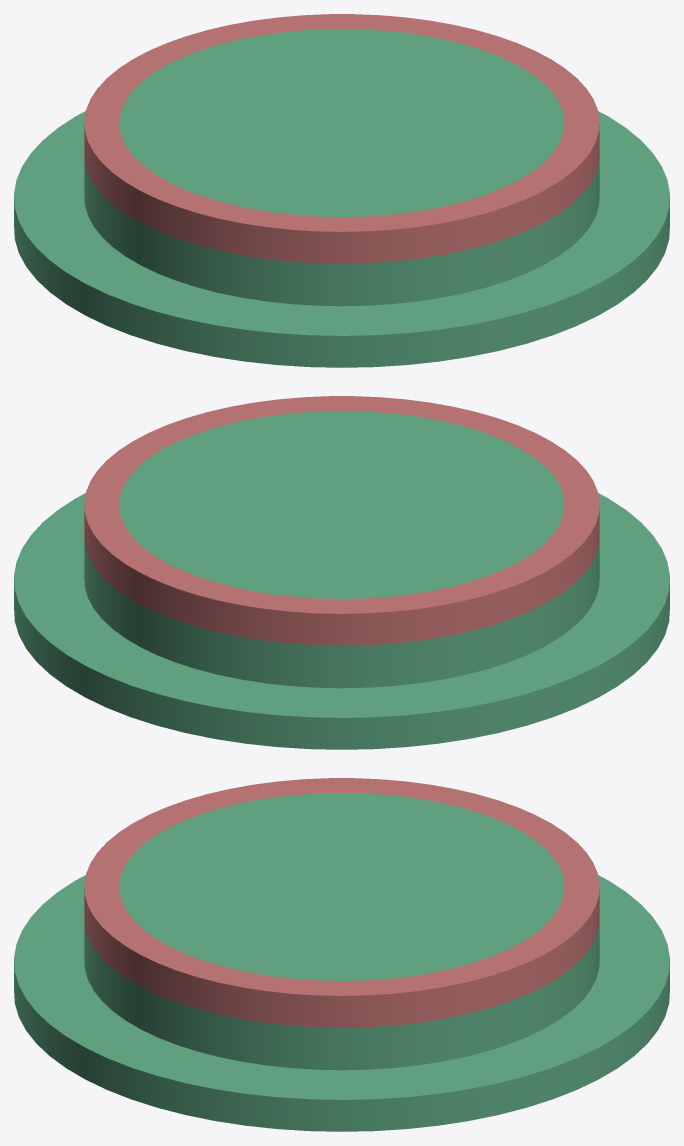
The model's file is step_03.glb.
3 renders of one model, top to bottom at view 1: azimuth 30°, elevation 25°; view 2: azimuth 150°, elevation 25°; view 3: azimuth 270°, elevation 25°, orthographic.
Visible parts, largest first — view 1: part__PRESS HERE button, removed__PRESS HERE button; view 2: part__PRESS HERE button, removed__PRESS HERE button; view 3: part__PRESS HERE button, removed__PRESS HERE button.
Boxes of the visible parts, x1=… form: part__PRESS HERE button: x1=14, y1=29, x2=669, y2=367; removed__PRESS HERE button: x1=84, y1=14, x2=599, y2=263; part__PRESS HERE button: x1=14, y1=411, x2=669, y2=749; removed__PRESS HERE button: x1=84, y1=396, x2=599, y2=645; part__PRESS HERE button: x1=14, y1=793, x2=669, y2=1131; removed__PRESS HERE button: x1=84, y1=778, x2=599, y2=1027.
Bounding box in the file's own units: 27.98 × 5 × 27.99.
